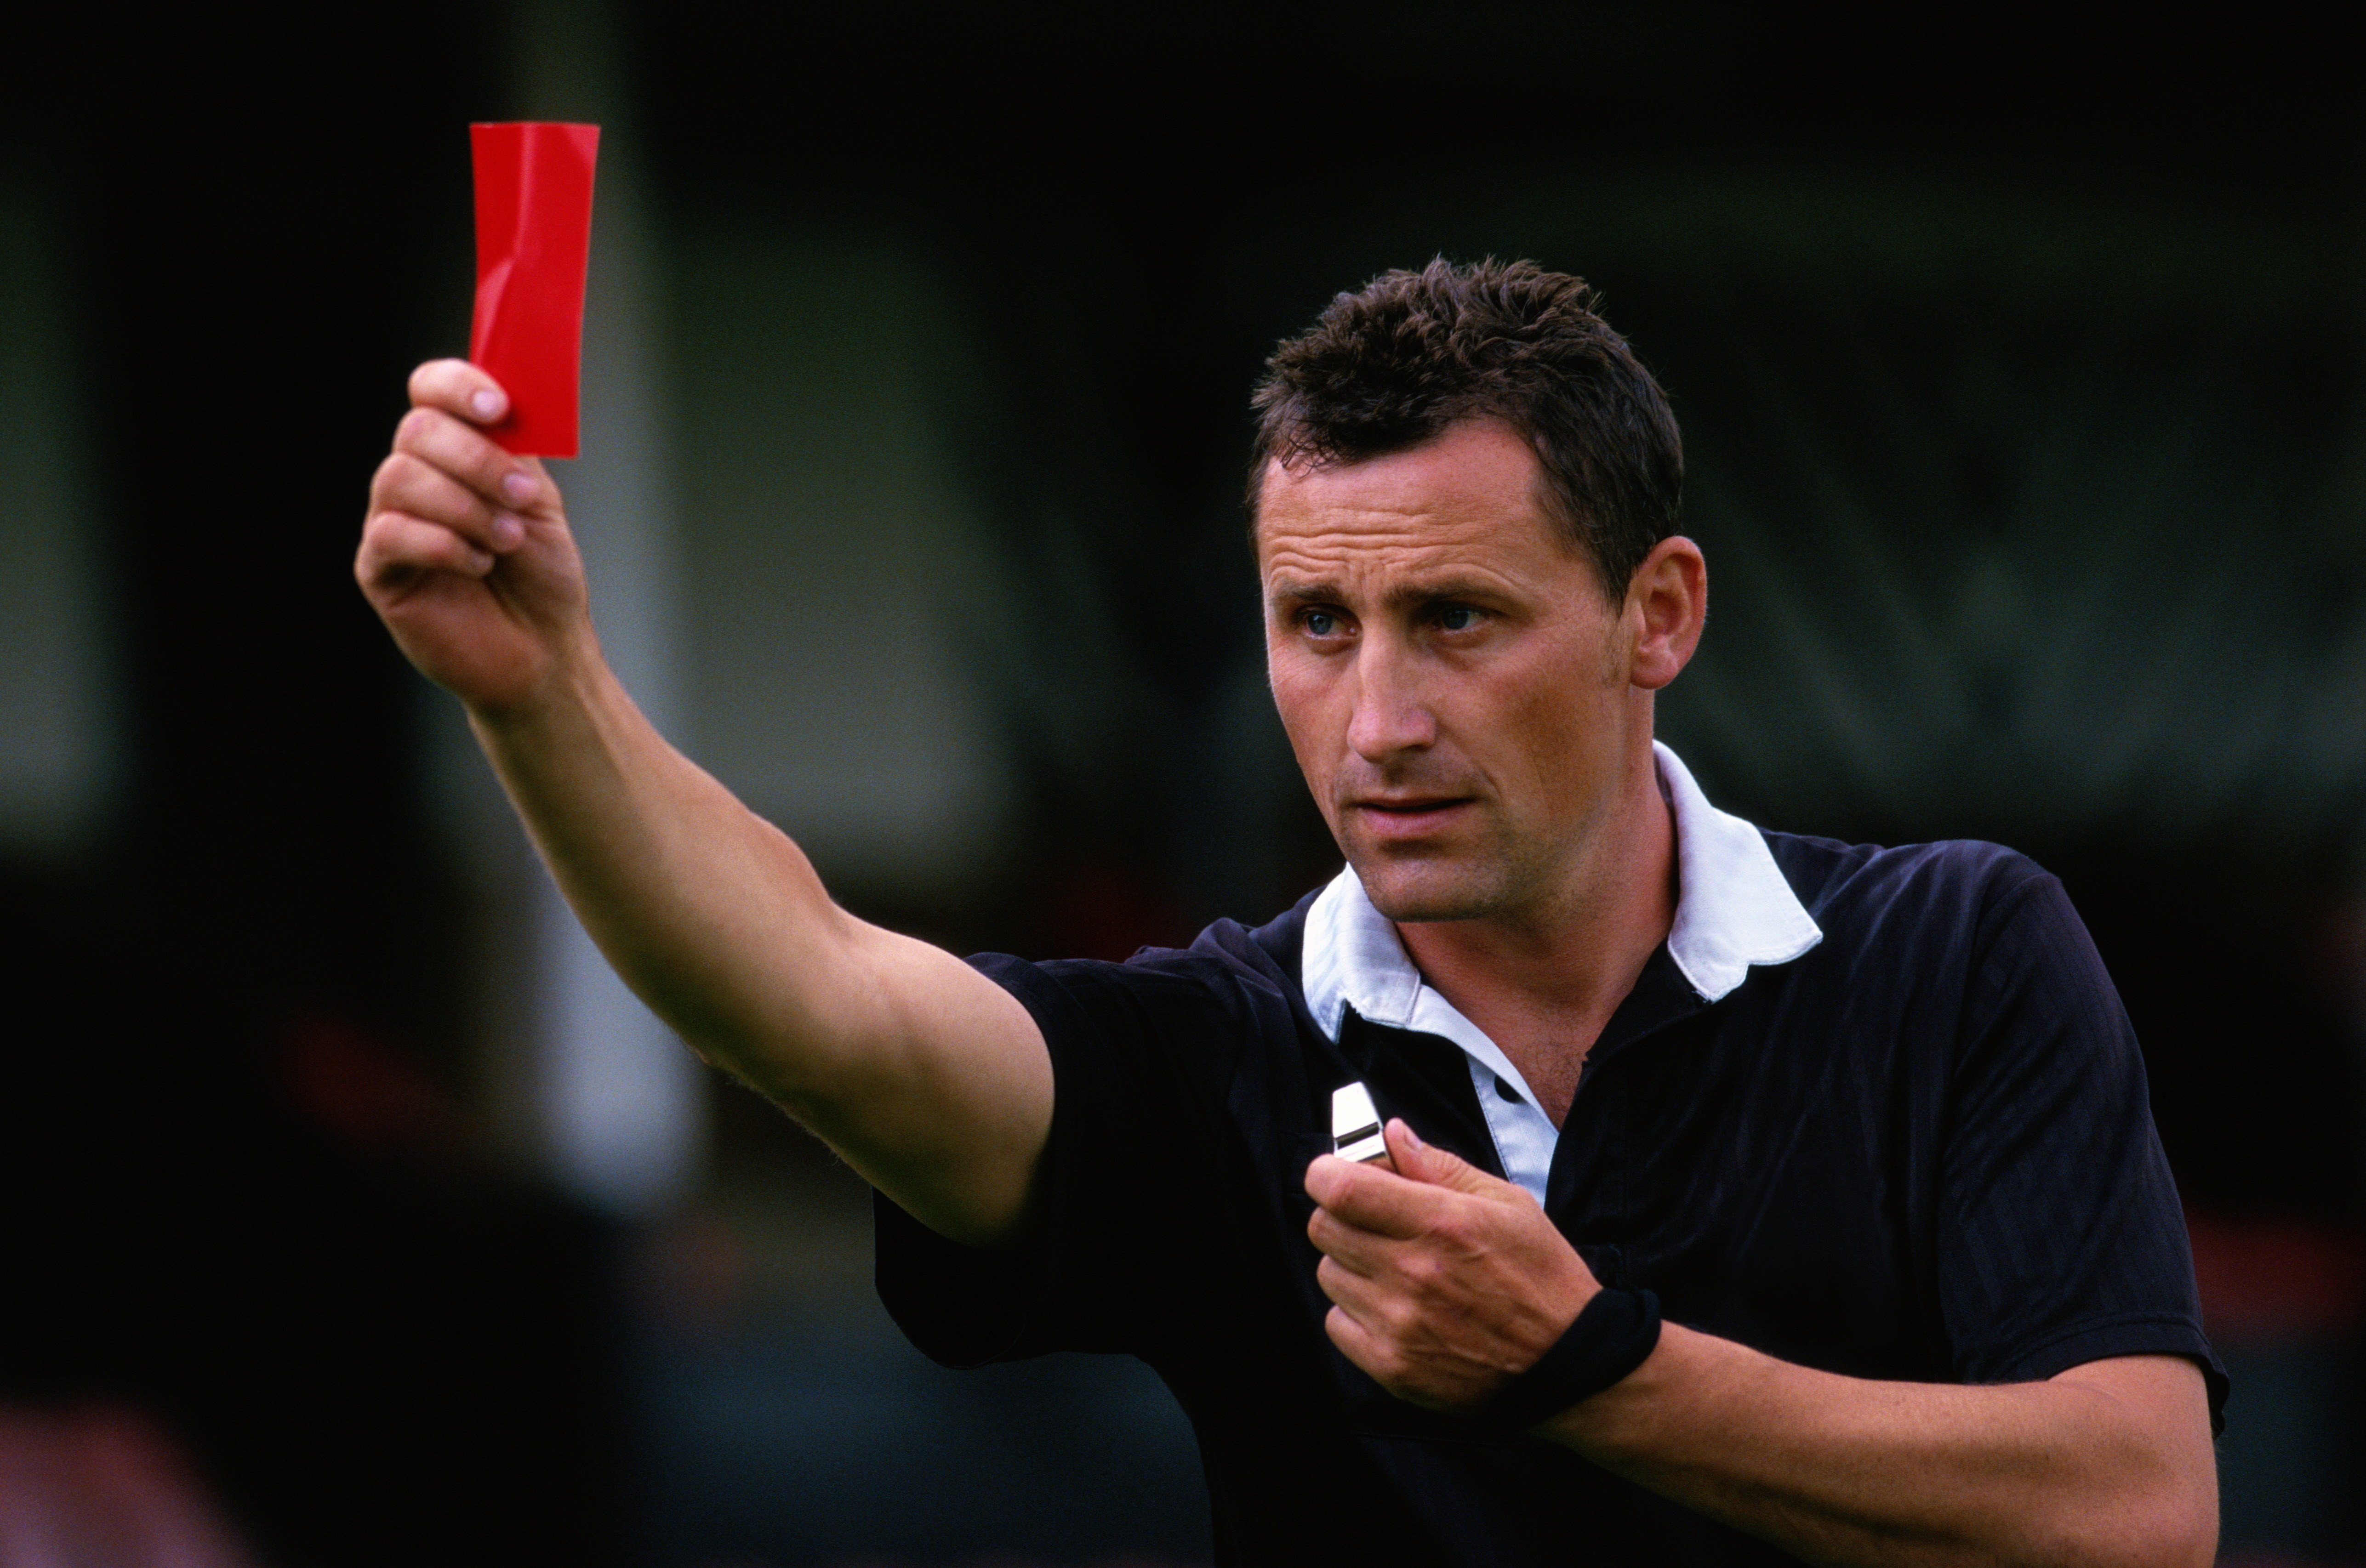red_card: (298, 91, 649, 668)
